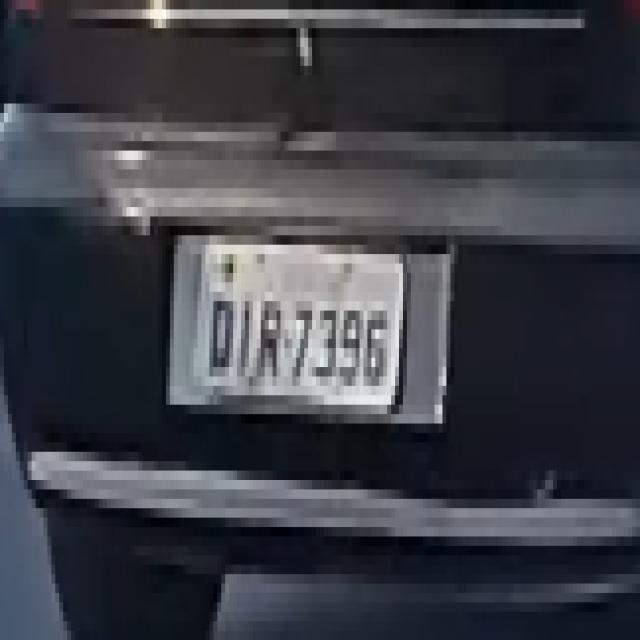Placa_mercosul_carro: (194, 239, 408, 411)
